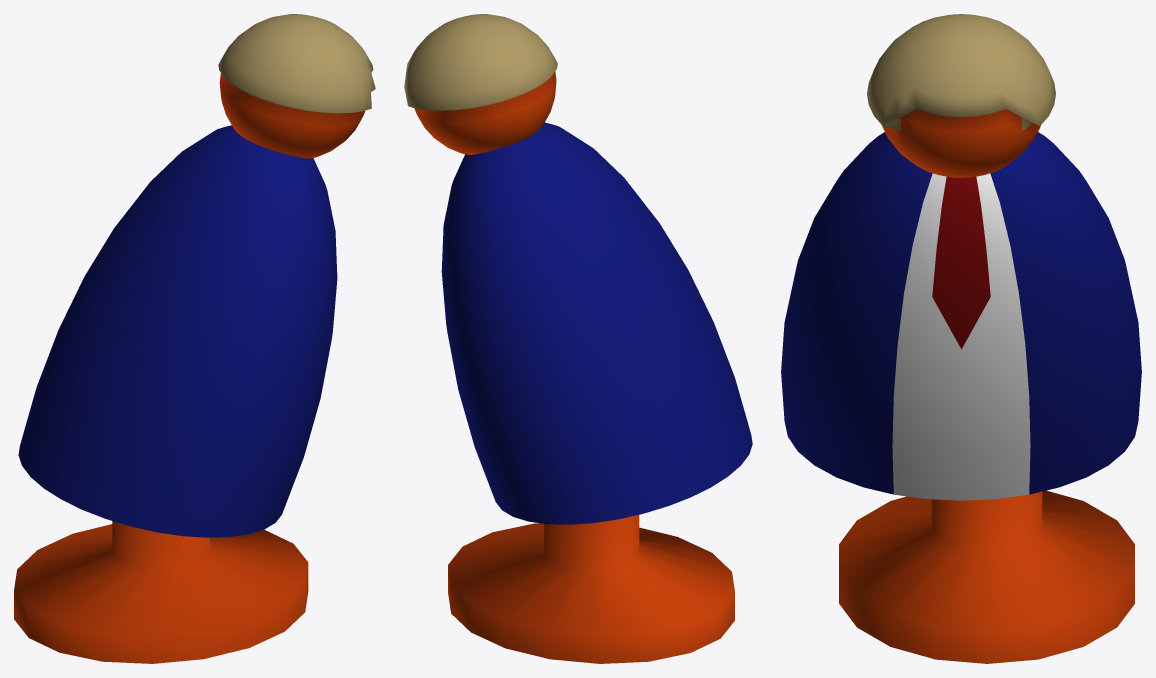
The model's file is Trump.FBX.
3 views of the same model, side by side, from view 1: azimuth 30°, elevation 25°; view 2: azimuth 150°, elevation 25°; view 3: azimuth 270°, elevation 25° (orthographic). The views are drawn at different scales.
Visible parts, largest first — view 1: Sphere001; view 2: Sphere001; view 3: Sphere001.
Boxes of the visible parts, box(x1,y1,x2,y2) form: Sphere001: box(14, 14, 375, 663); Sphere001: box(404, 14, 752, 663); Sphere001: box(781, 14, 1141, 663).
Bounding box in the file's own units: 16.82 × 27.92 × 14.35.
